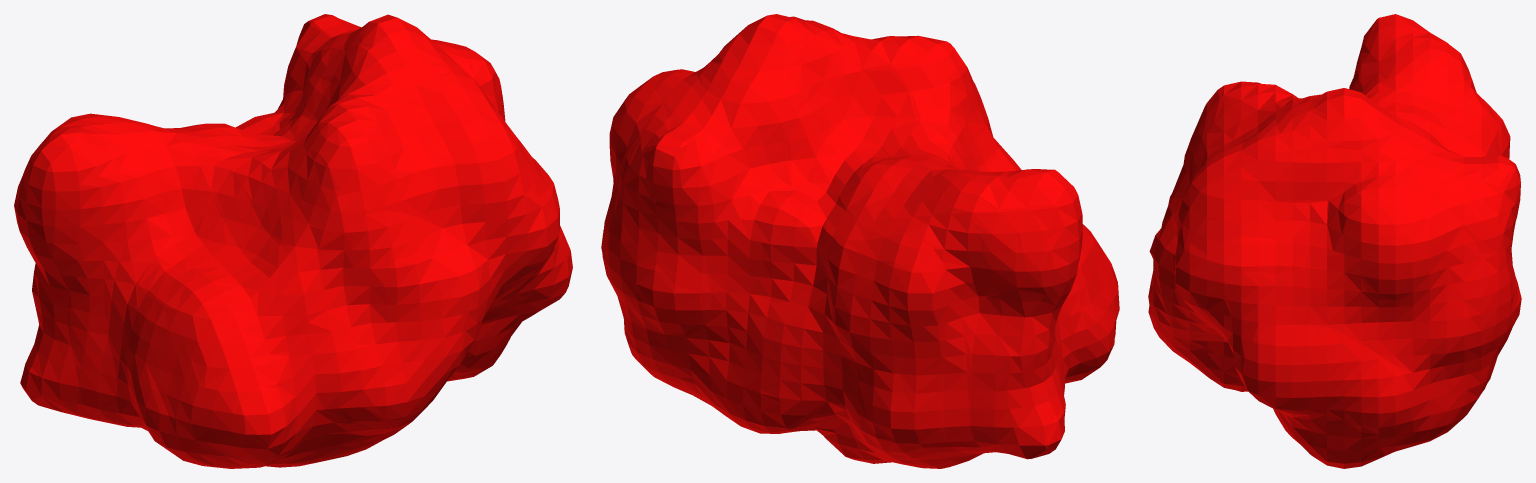
Rendered from ldcA_coarse.dae.
3 views of the same model, side by side, from view 1: azimuth 30°, elevation 25°; view 2: azimuth 150°, elevation 25°; view 3: azimuth 270°, elevation 25° (orthographic). The views are drawn at different scales.
Visible parts, largest first — view 1: ldcA; view 2: ldcA; view 3: ldcA.
Part boxes in pixels (x1,y1,x2,y2): ldcA: [14, 14, 572, 468]; ldcA: [601, 14, 1119, 468]; ldcA: [1148, 14, 1521, 468].
Size of the model in its own units: 59.73 by 48.38 by 44.14.
